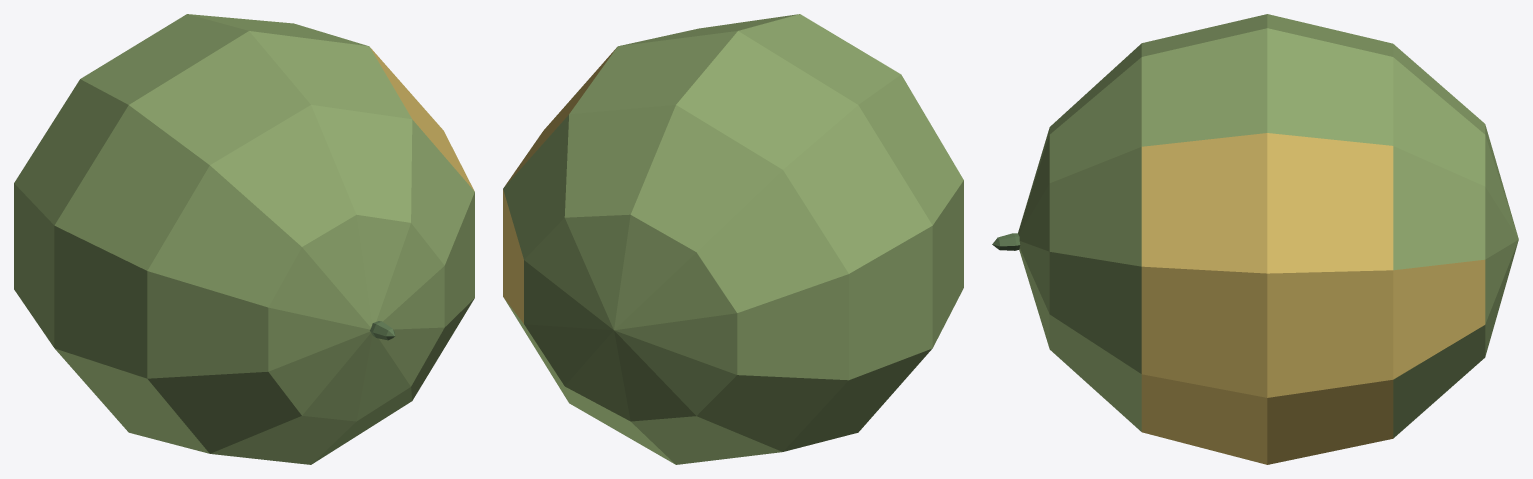
Rendered from guava.glb.
The picture shows the model from 3 angles, left to right: view 1: azimuth 30°, elevation 25°; view 2: azimuth 150°, elevation 25°; view 3: azimuth 270°, elevation 25°; orthographic projection.
Visible parts, largest first — view 1: guava; view 2: guava; view 3: guava.
Part boxes in pixels (x1,y1,x2,y2): guava: [14, 14, 474, 464]; guava: [503, 14, 963, 464]; guava: [992, 14, 1518, 464].
Bounding box in the file's own units: 0.0761 × 0.0779 × 0.088.
